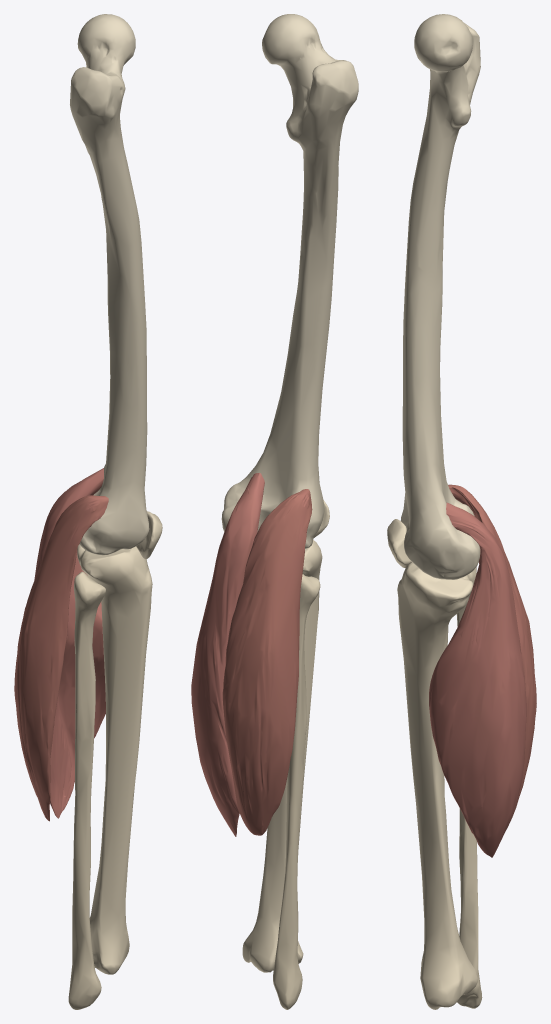
Rendered from legs-right.glb.
3 views of the same model, side by side, from view 1: azimuth 90°, elevation 25°; view 2: azimuth 150°, elevation 25°; view 3: azimuth 270°, elevation 25° (orthographic).
Parts seen in each view (by area): view 1: grp1 (×6); view 2: grp1 (×5); view 3: grp1 (×6).
Part boxes in pixels (left/top/right/bottom): grp1 (×6): left=14, top=14, right=162, bottom=1009; grp1 (×5): left=191, top=14, right=358, bottom=1009; grp1 (×6): left=387, top=14, right=536, bottom=1009.
Size of the model in its own units: 0.4182 by 2.8 by 0.3809.
